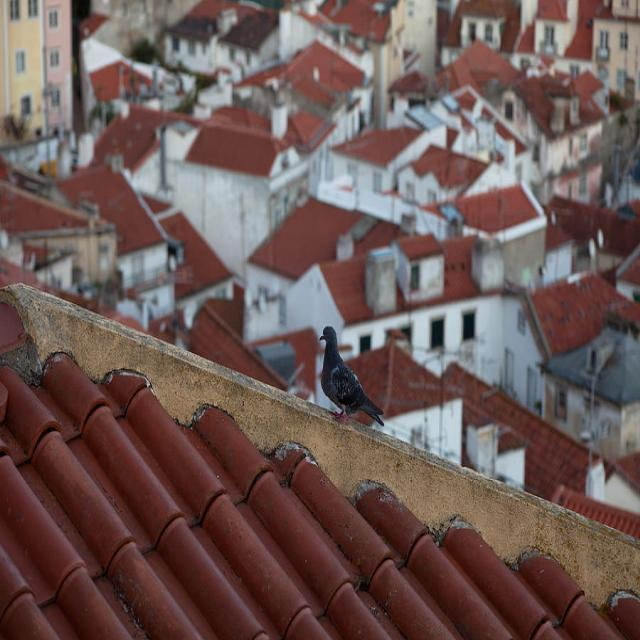bird: (317, 325, 386, 428)
